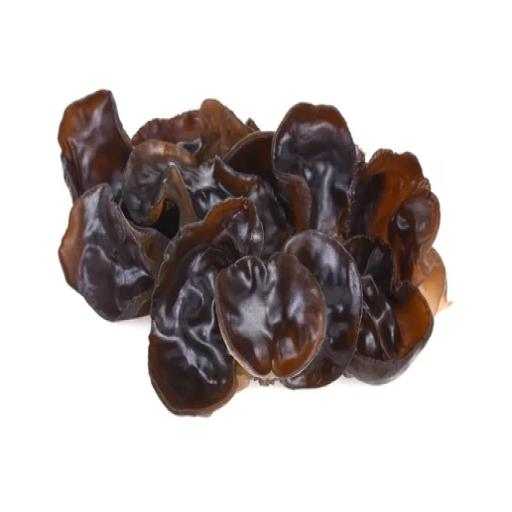Wood Ear Mushroom: (48, 75, 460, 434)
